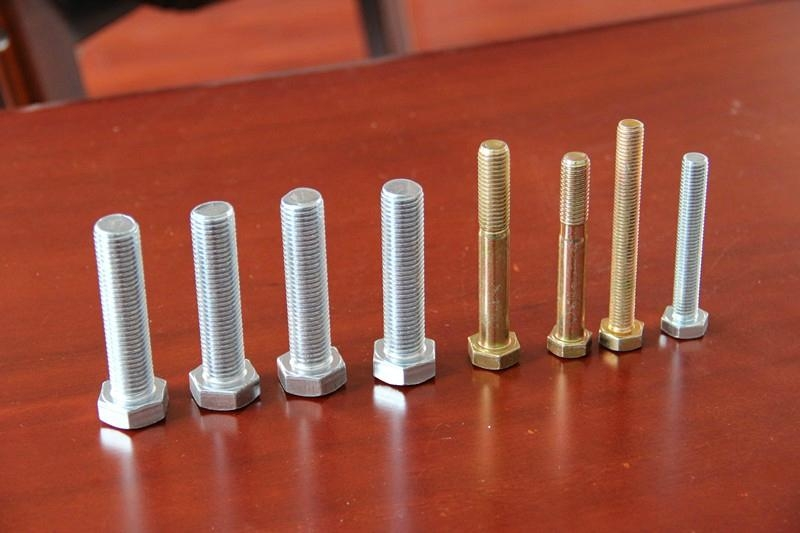screw: (94, 215, 167, 430), (189, 200, 262, 412), (277, 186, 347, 399), (371, 178, 435, 387), (467, 140, 522, 373), (598, 118, 644, 353), (546, 151, 592, 360), (660, 151, 710, 340)
